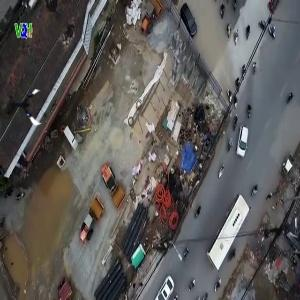drone: (5, 85, 48, 128)
